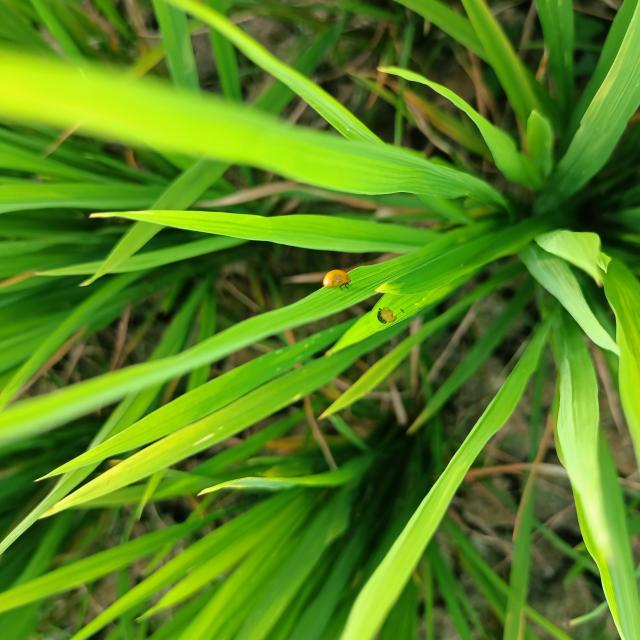walang sangit pada tanaman padi: (320, 268, 353, 292)
